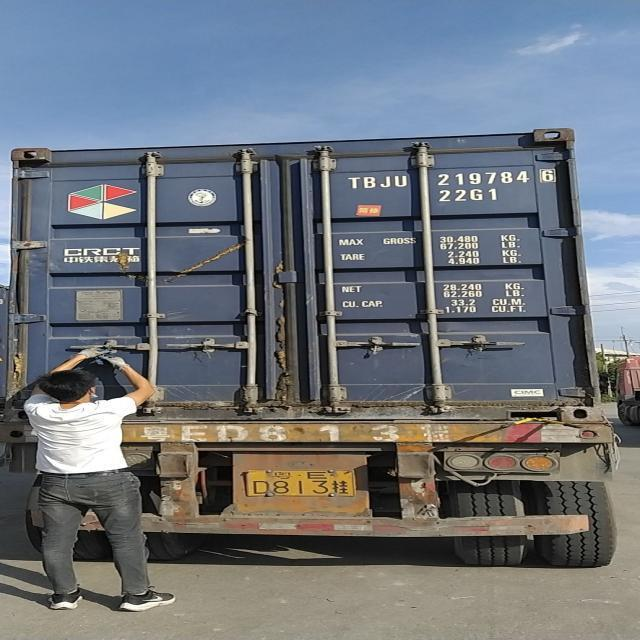ISO: (438, 187, 504, 199)
container_number: (346, 167, 550, 188)
